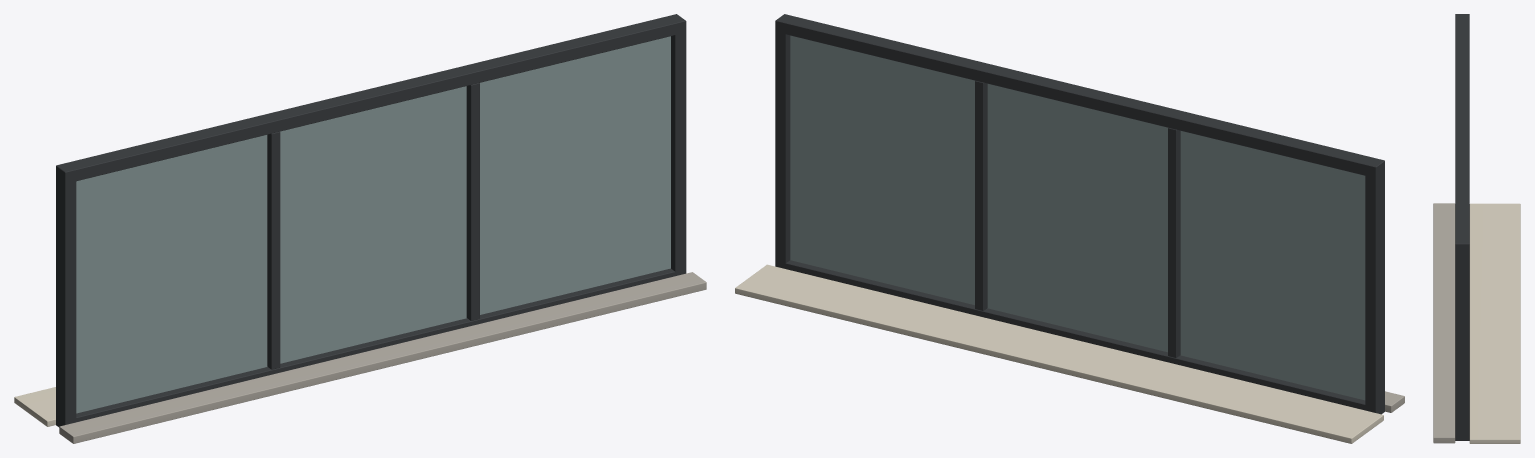
File: prop_window_w300_h120.glb
3 renders of one model, left to right at view 1: azimuth 30°, elevation 25°; view 2: azimuth 150°, elevation 25°; view 3: azimuth 270°, elevation 25°, orthographic. The views are drawn at different scales.
Parts seen in each view (by area): view 1: Glass, Frame; view 2: Glass, Frame; view 3: Frame.
Boxes of the visible parts, box(x1,y1,x2,y2) form: Glass: box(76, 36, 670, 413); Frame: box(14, 14, 706, 443); Glass: box(790, 35, 1365, 400); Frame: box(735, 14, 1404, 443); Frame: box(1433, 14, 1520, 443).
Bounding box in the file's own units: 3.08 × 1.2 × 0.48.
